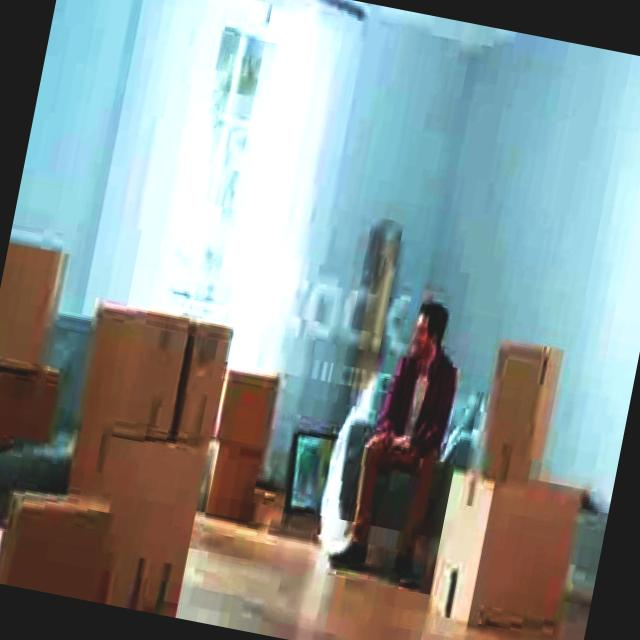Box: (435, 464, 589, 622), (90, 439, 214, 618), (80, 308, 194, 446), (0, 491, 113, 596), (478, 351, 562, 480), (0, 245, 70, 367), (0, 362, 71, 460), (173, 332, 235, 440)
